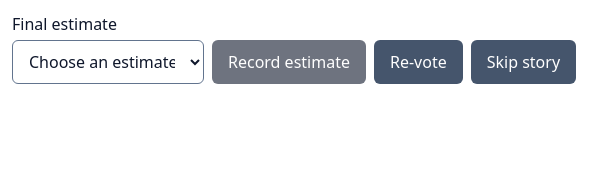
Scenario: FacilitatorControls › starts empty with Record estimate disabled when there is no suggestion
Expected: the button "Record estimate" is disabled, [212, 40, 366, 84]
Select "13" in the dropdown labelled "Final estimate" at (108, 62), box [12, 40, 204, 84]
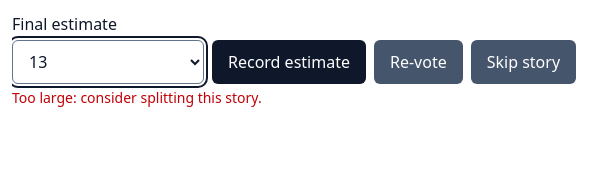
Now the button "Record estimate" is enabled, box [212, 40, 366, 84]
